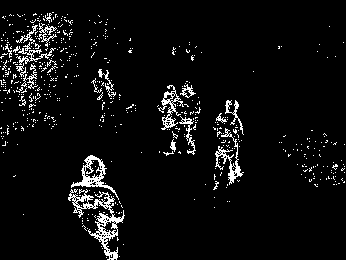person: (69, 155, 123, 260), (213, 98, 243, 189), (179, 82, 200, 155), (156, 84, 177, 156), (93, 69, 117, 128)
